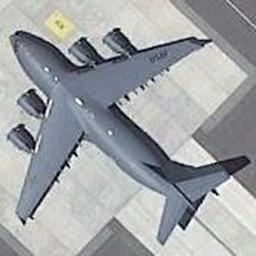Airplane: (6, 25, 251, 245)
